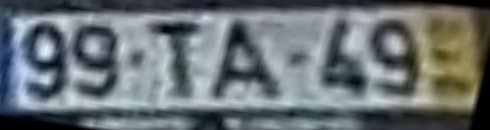4: (318, 16, 377, 105)
9: (369, 16, 427, 104), (68, 21, 126, 105), (18, 21, 72, 107)
A: (203, 18, 290, 105)
T: (147, 20, 206, 105)
